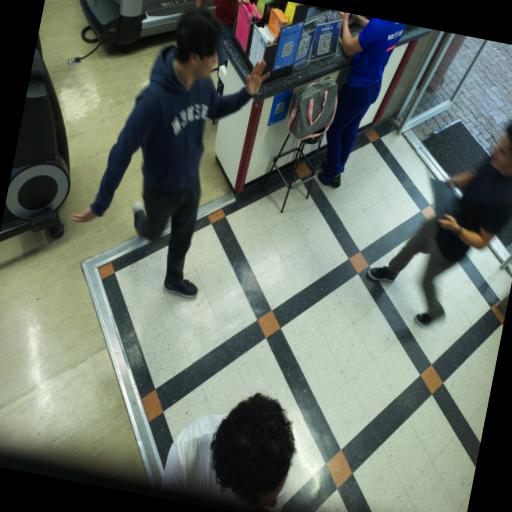person: (72, 9, 266, 298), (368, 122, 511, 326), (161, 394, 294, 511), (318, 11, 403, 188), (212, 0, 249, 64)
